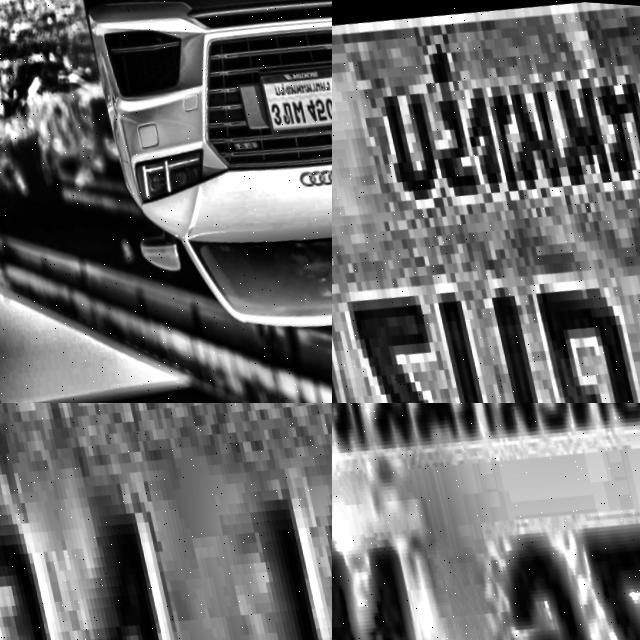license-plate: (332, 0, 640, 403), (0, 403, 332, 640), (332, 403, 640, 640), (252, 52, 332, 139)
